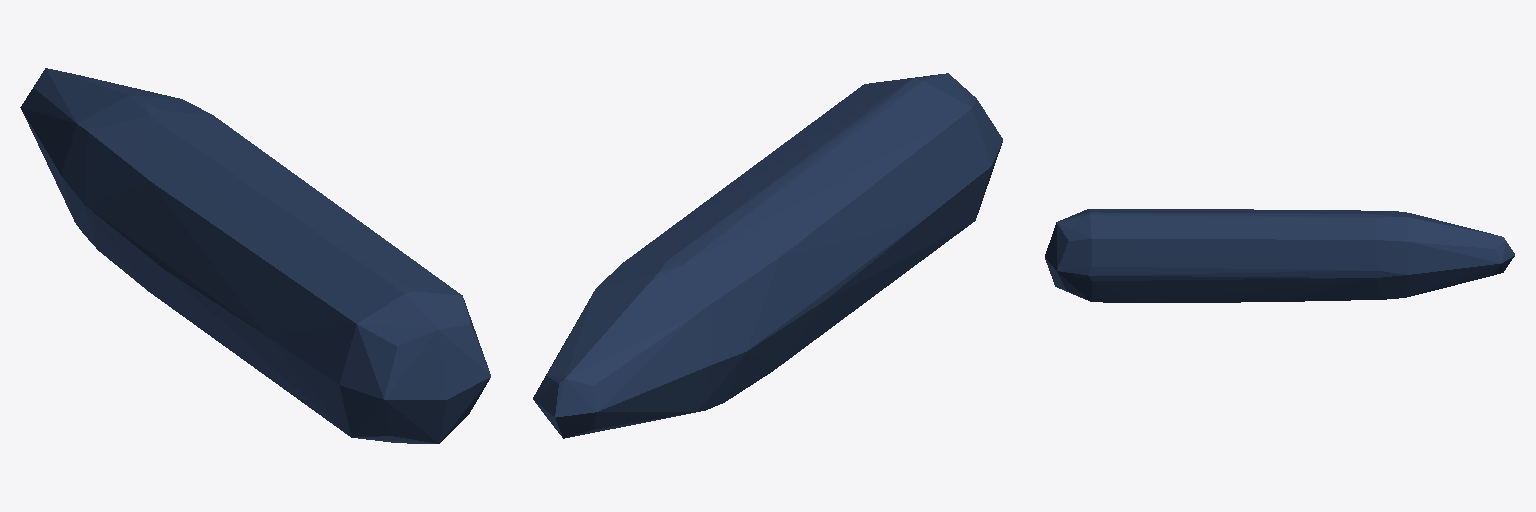
URDF robot description (blob397):
<robot name="blob397">
  <link name="random_obj_397">
    <contact>
      <lateral_friction value="1.0"/>
      <rolling_friction value="0.0"/>
      <inertia_scaling value="3.0"/>
      <contact_cfm value="0.0"/>
      <contact_erp value="1.0"/>
    </contact>
    <inertial>
      <origin rpy="0 0 0" xyz="0 0 0"/>
      <mass value="0.1"/>
      <inertia ixx="1" ixy="0" ixz="0" iyy="1" iyz="0" izz="0"/>
    </inertial>
    <visual>
      <origin rpy="0 0 0" xyz="0 0 0"/>
      <geometry>
        <mesh filename="397.obj" scale="0.015 0.015 0.015"/>
      </geometry>
      <material name="blockmat">
        <color rgba="0.22 0.29 0.41 1"/>
      </material>
    </visual>
    <collision>
      <origin rpy="0 0 0" xyz="0 0 0"/>
      <geometry>
        <mesh filename="397.obj" scale="0.015 0.015 0.015"/>
      </geometry>
    </collision>
  </link>
</robot>

--- Facts derived from the render (not from the file) ---
3 views of the same robot in one strip: view 1: azimuth 30°, elevation 25°; view 2: azimuth 150°, elevation 25°; view 3: azimuth 270°, elevation 25° (orthographic).
Robot: blob397 — 1 links, 0 joints (none); root link random_obj_397; default pose: every joint at zero.
Visible links, largest first — view 1: random_obj_397; view 2: random_obj_397; view 3: random_obj_397.
Link boxes in pixels (x1,y1,x2,y2): random_obj_397: (20,68,490,443); random_obj_397: (533,73,1002,438); random_obj_397: (1045,209,1514,302).
Size in the robot's own frame: 0.0302 by 0.1509 by 0.0302 metres.
1 mesh visuals loaded from 1 distinct referenced files (1 OBJ).